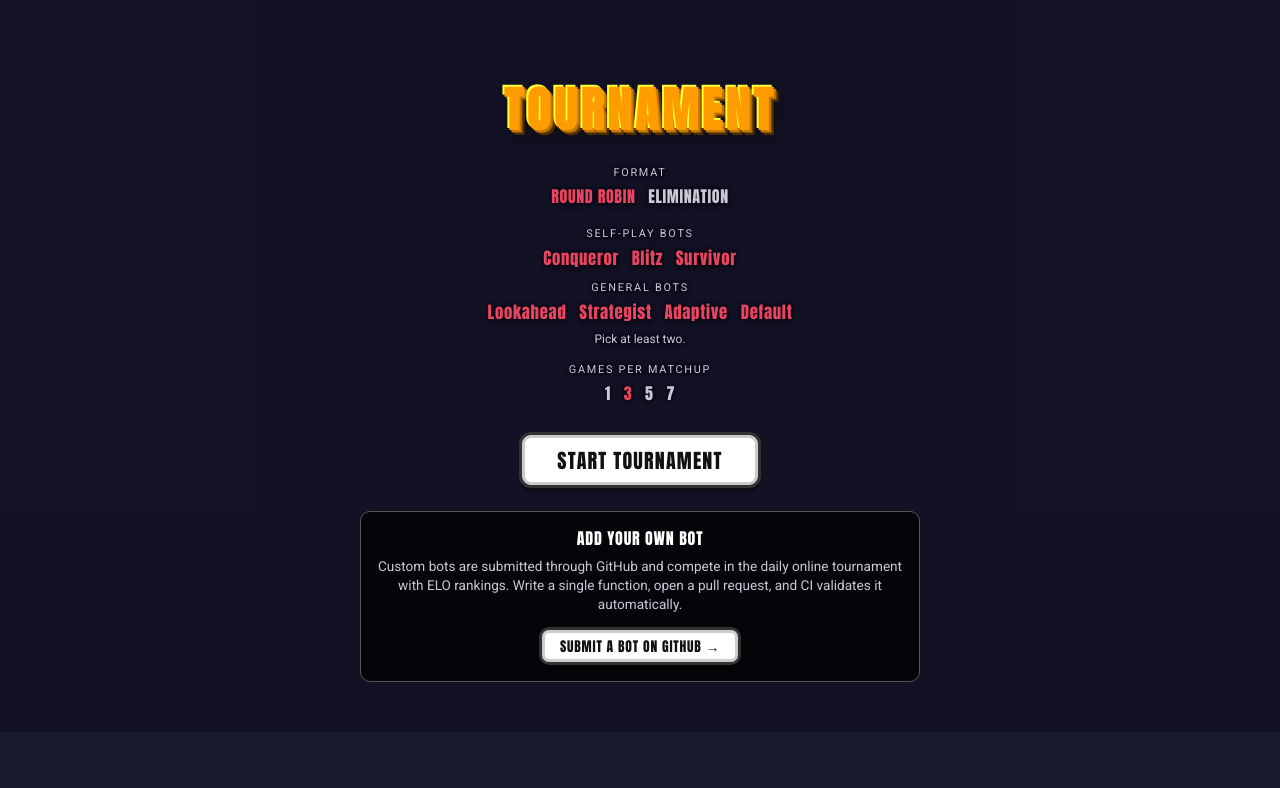
Test: TournamentScreen broken-bot surfacing › renders the results table with no badge when nothing is flagged
Click the button "START TOURNAMENT" at (640, 460), box [519, 432, 761, 488]
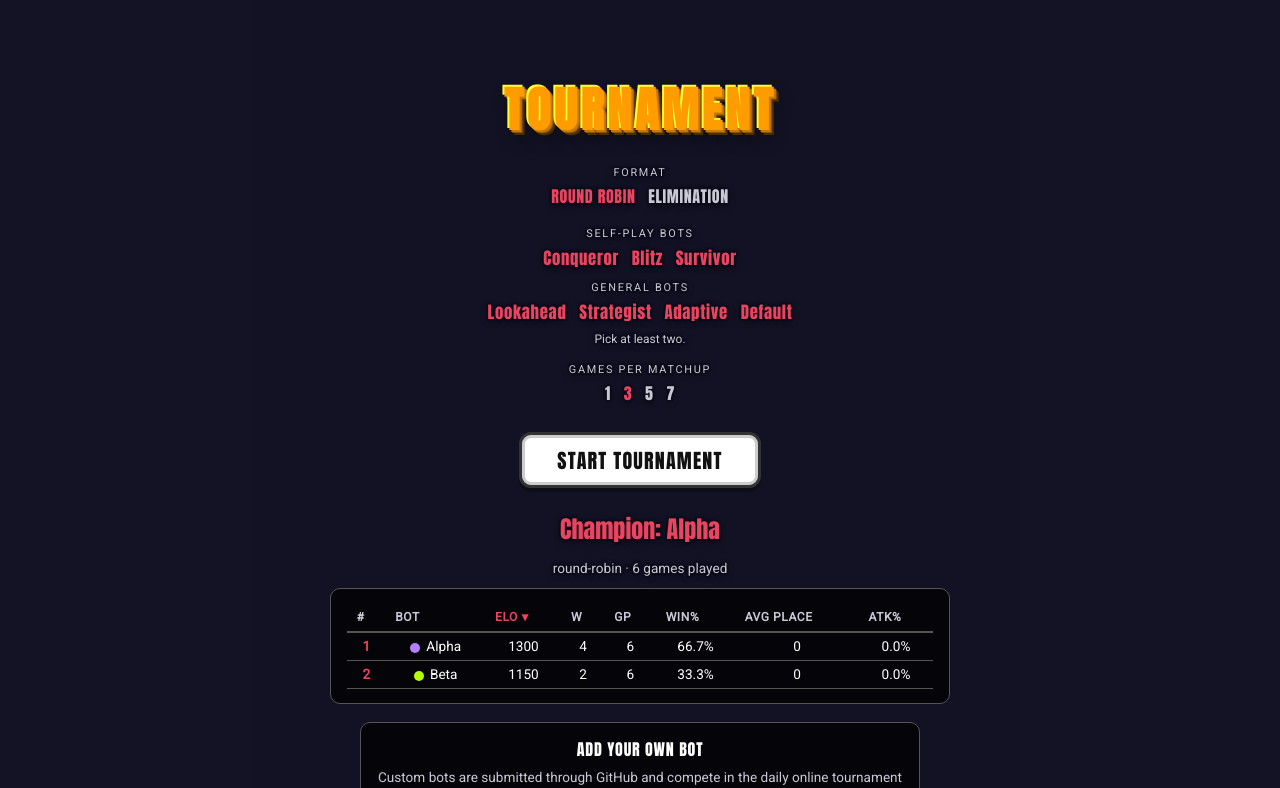
Now the table is shown, box [347, 604, 933, 689]
